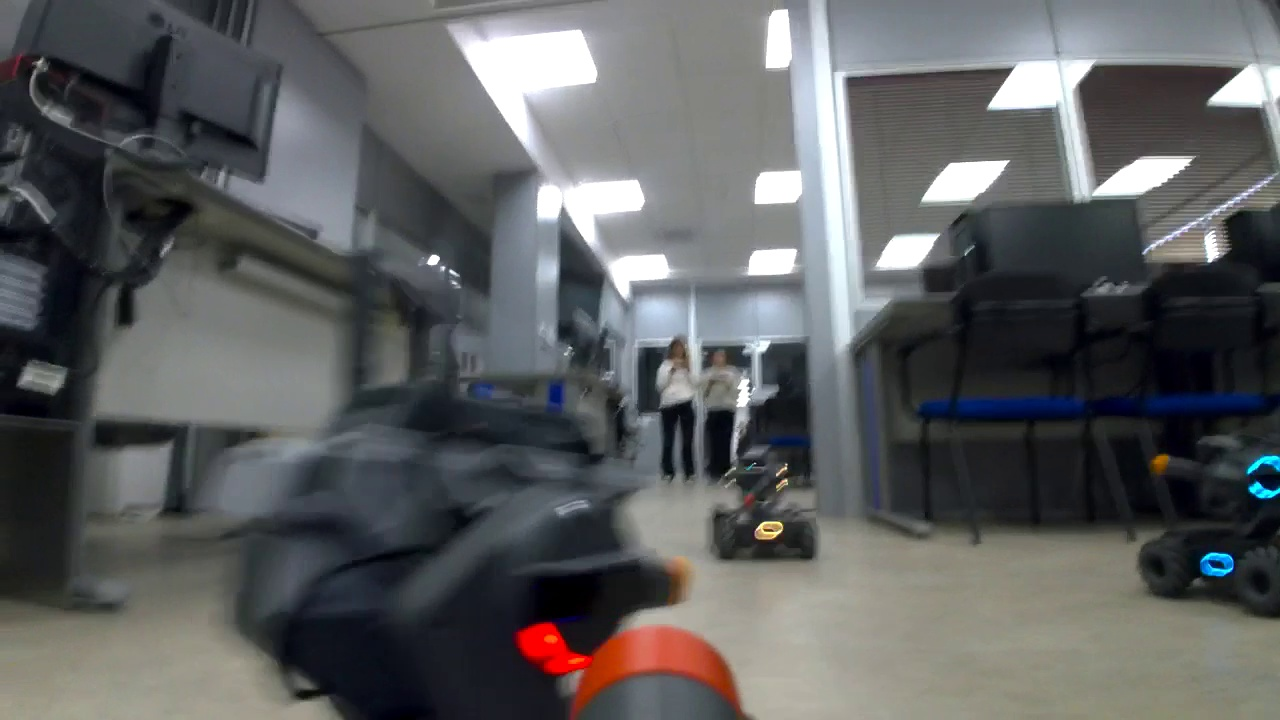robot: (229, 393, 696, 715), (1136, 430, 1280, 620), (708, 445, 823, 561)
